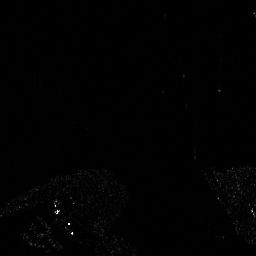ship: (51, 198, 74, 237)
